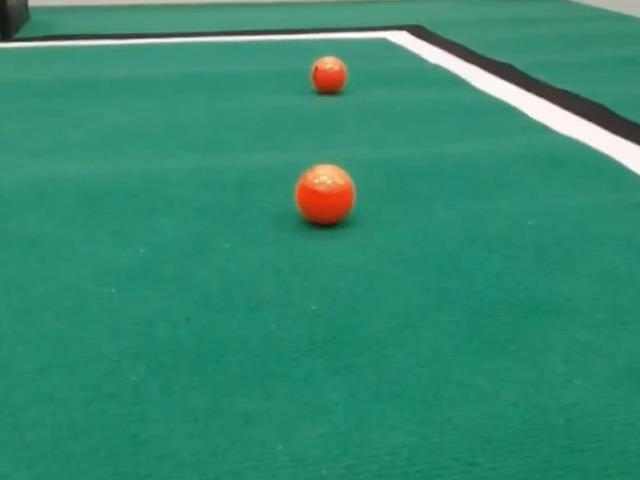Ball: (295, 164, 355, 225), (311, 56, 346, 93)
